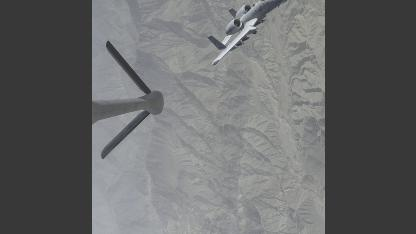A10: (205, 0, 291, 67)
